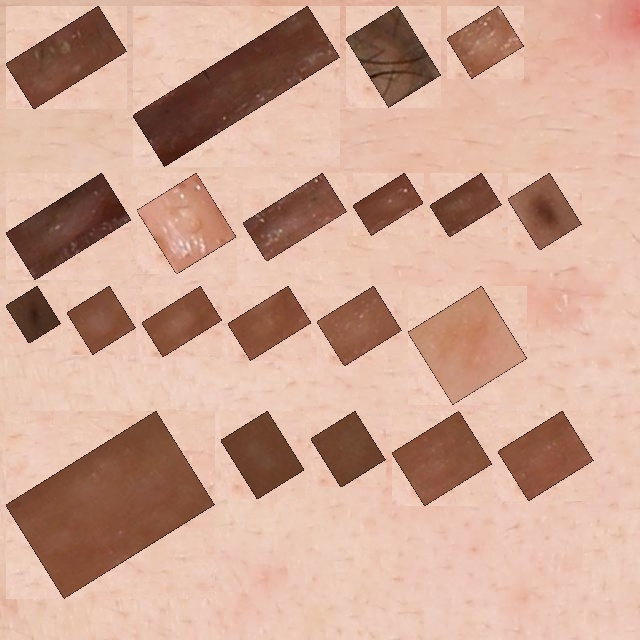hypertrophic_scar: (17, 422, 203, 587), (144, 17, 328, 155), (17, 184, 120, 268), (17, 17, 115, 98), (148, 184, 225, 263), (357, 17, 430, 96), (403, 422, 481, 494), (254, 184, 336, 250), (509, 422, 582, 489), (232, 422, 293, 488), (328, 297, 390, 355), (239, 297, 300, 349), (322, 422, 374, 476), (153, 297, 211, 345), (458, 17, 513, 67), (78, 297, 124, 343), (441, 184, 490, 226), (364, 184, 412, 224)
melasma: (419, 297, 516, 393)
nevus: (519, 184, 570, 239), (17, 297, 50, 332)
